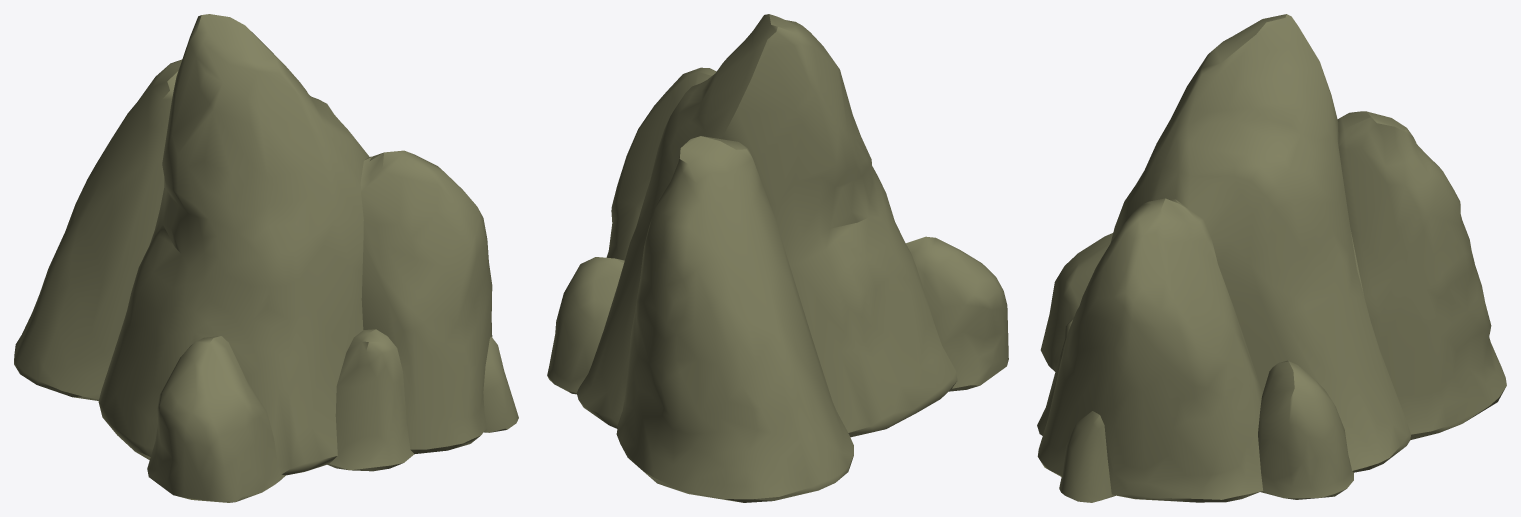
File: rock11big.fbx
The picture shows the model from 3 angles, left to right: view 1: azimuth 30°, elevation 25°; view 2: azimuth 150°, elevation 25°; view 3: azimuth 270°, elevation 25°; orthographic projection.
Visible parts, largest first — view 1: rock11big; view 2: rock11big; view 3: rock11big.
Boxes of the visible parts, bbox=[...] form: rock11big: bbox=[14, 14, 518, 502]; rock11big: bbox=[547, 14, 1008, 502]; rock11big: bbox=[1037, 14, 1506, 502].
Size of the model in its own units: 3.61 by 3.76 by 4.17.
